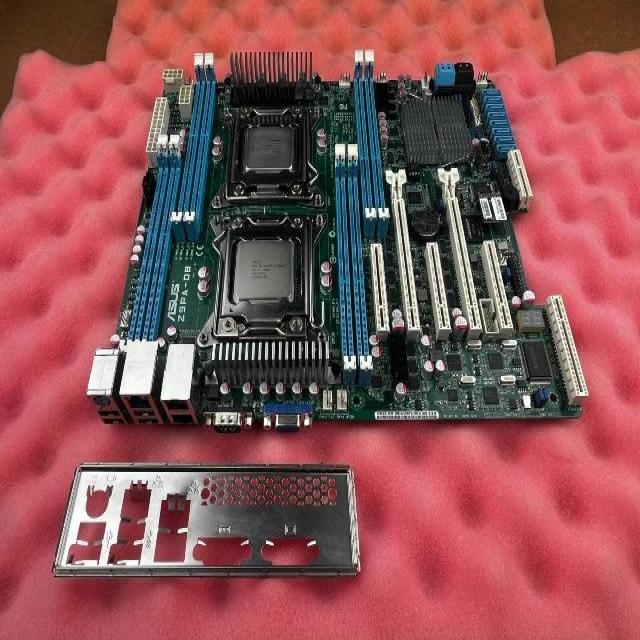CPU: (232, 239, 294, 305), (243, 125, 296, 174)
